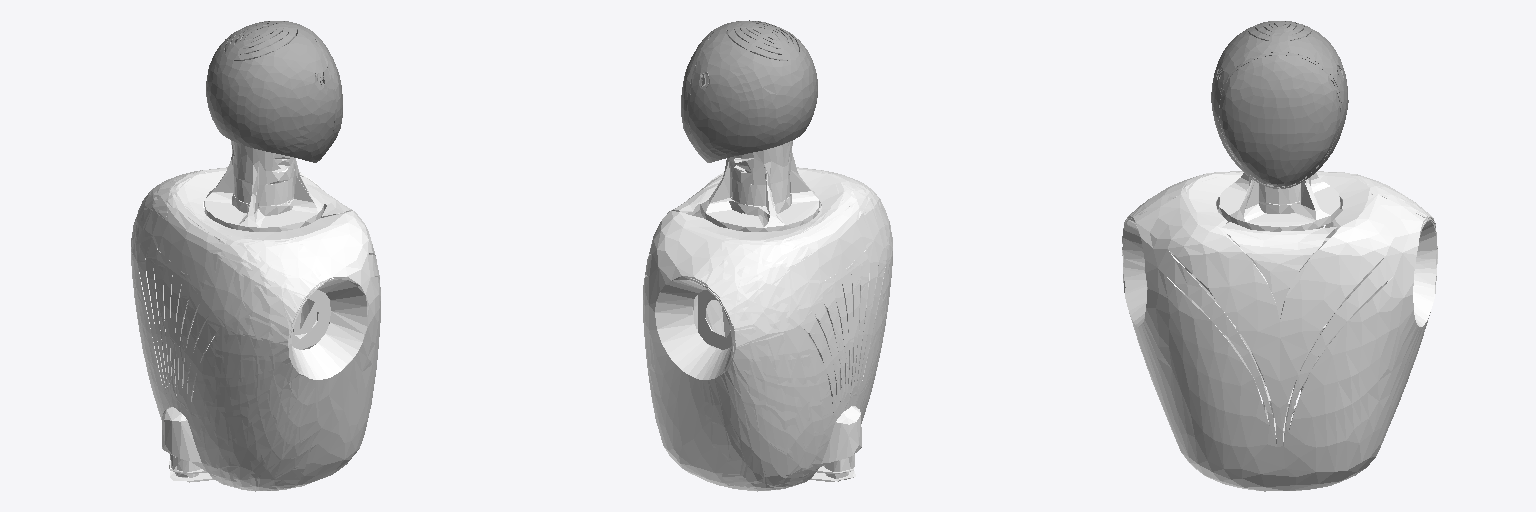
URDF robot description (RH5):
<robot name="RH5">

  <link name="BodyYaw_Link">
    <inertial>
      <origin xyz="-0.015999 0.00018406 0.27483" rpy="0 0 0" />
      <mass value="27.291" />
      <inertia ixx="1.1652" ixy="-5.1088E-05" ixz="-0.027697" iyy="0.98908" iyz="-0.00057966" izz="0.60666" />
    </inertial>
    <visual>
      <origin xyz="0 0 0" rpy="0 0 0" />
      <geometry>
        <mesh filename="../meshes/stl/BodyYaw_Link.STL" />
      </geometry>
      <material name="">
        <color rgba="1 1 1 1" />
      </material>
    </visual>
    <collision>
      <origin xyz="0 0 0" rpy="0 0 0" />
      <geometry>
        <mesh filename="../meshes/stl/BodyYaw_Link.STL" />
      </geometry>
    </collision>
  </link>

  <!--Head-->
  <link name="Head_Act1_Link" />
  <link name="Head_Act2_Link" />
  <link name="Head_Act3_Link" />
  <joint name="Head_Act1" type="revolute">
    <origin xyz="0.00395 0 0.66179" rpy="2.8216E-18 3.4225E-16 1.0489E-14" />
    <parent link="BodyYaw_Link" />
    <child link="Head_Act1_Link" />
    <limit effort="9.8" lower="-0.3490658504" upper="0.2617993878" velocity="8.0553657784"/>
  </joint>
  <joint name="Head_Act2" type="revolute">
    <origin xyz="0.00395 0 0.66179" rpy="2.8216E-18 3.4225E-16 1.0489E-14" />
    <parent link="BodyYaw_Link" />
    <child link="Head_Act2_Link" />
    <limit effort="9.8" lower="-0.3490658504" upper="0.2617993878" velocity="8.0553657784"/>
  </joint>
  <joint name="Head_Act3" type="revolute">
    <origin xyz="0.00395 0 0.66179" rpy="2.8216E-18 3.4225E-16 1.0489E-14" />
    <parent link="BodyYaw_Link" />
    <child link="Head_Act3_Link" />
    <limit effort="9.8" lower="-0.3490658504" upper="0.2617993878" velocity="8.0553657784"/>
  </joint>

<transmission name="Head">
  <type>MultiJointLinearTransmission</type>
  <joint name="Head_Act1">
    <depends_on joint="HeadRoll" multiplier="1.0" offset="0" />
    <depends_on joint="HeadPitch" multiplier="1.0" offset="0" />
  </joint>
  <joint name="Head_Act2">
    <depends_on joint="HeadRoll" multiplier="-1.0" offset="0" />
    <depends_on joint="HeadPitch" multiplier="1.0" offset="0" />
  </joint>
  <joint name="Head_Act3">
    <depends_on joint="HeadYaw" multiplier="1.0" offset="0" />
  </joint>
</transmission>

  <link name="HeadPitch_Link">
    <inertial>
      <origin xyz="0.0029695 3.7352E-08 -4.1086E-09" rpy="0 0 0" />
      <mass value="0.01353" />
      <inertia ixx="1.2693E-06" ixy="2.9253E-12" ixz="-1.323E-13" iyy="2.1697E-06" iyz="-1.983E-12" izz="3.0472E-06" />
    </inertial>
    <visual>
      <origin xyz="0 0 0" rpy="0 0 0" />
      <geometry>
        <mesh filename="../meshes/stl/HeadPitch_Link.STL" />
      </geometry>
      <material name="">
        <color rgba="0.69804 0.69804 0.69804 1" />
      </material>
    </visual>
    <collision>
      <origin xyz="0 0 0" rpy="0 0 0" />
      <geometry>
        <mesh filename="../meshes/stl/HeadPitch_Link.STL" />
      </geometry>
    </collision>
  </link>
  <joint name="HeadPitch" type="revolute">
    <origin xyz="0.00395 0 0.66179" rpy="2.8216E-18 3.4225E-16 1.0489E-14" />
    <parent link="BodyYaw_Link" />
    <child link="HeadPitch_Link" />
    <axis xyz="0 1 0" />
    <limit effort="9.8" lower="-0.3490658504" upper="0.2617993878" velocity="8.0553657784"/>
  </joint>
  <link name="HeadRoll_Link">
    <inertial>
      <origin xyz="-0.0040042 1.6567E-08 0.017195" rpy="0 0 0" />
      <mass value="0.03223" />
      <inertia ixx="1.2379E-05" ixy="7.9876E-12" ixz="-2.2191E-06" iyy="2.1298E-05" iyz="5.8926E-11" izz="1.355E-05" />
    </inertial>
    <visual>
      <origin xyz="0 0 0" rpy="0 0 0" />
      <geometry>
        <mesh filename="../meshes/stl/HeadRoll_Link.STL" />
      </geometry>
      <material name="">
        <color rgba="0.69804 0.69804 0.69804 1" />
      </material>
    </visual>
    <collision>
      <origin xyz="0 0 0" rpy="0 0 0" />
      <geometry>
        <mesh filename="../meshes/stl/HeadRoll_Link.STL" />
      </geometry>
    </collision>
  </link>
  <joint name="HeadRoll" type="revolute">
    <origin xyz="0 0 0" rpy="1.6457E-37 0 0" />
    <parent link="HeadPitch_Link" />
    <child link="HeadRoll_Link" />
    <axis xyz="1 0 0" />
    <limit effort="9.8" lower="-0.436332313" upper="0.436332313" velocity="8.0553657784"/>
  </joint>
  <link name="HeadYaw_Link">
    <inertial>
      <origin xyz="0.029368 -0.00017537 0.06406" rpy="0 0 0" />
      <mass value="1.7003" />
      <inertia ixx="0.01193" ixy="-2.7459E-05" ixz="0.0010678" iyy="0.01151" iyz="-4.681E-05" izz="0.012306" />
    </inertial>
    <visual>
      <origin xyz="0 0 0" rpy="0 0 0" />
      <geometry>
        <mesh filename="../meshes/stl/HeadYaw_Link.STL" />
      </geometry>
      <material name="">
        <color rgba="0.69804 0.69804 0.69804 1" />
      </material>
    </visual>
    <collision>
      <origin xyz="0 0 0" rpy="0 0 0" />
      <geometry>
        <mesh filename="../meshes/stl/HeadYaw_Link.STL" />
      </geometry>
    </collision>
  </link>
  <joint name="HeadYaw" type="revolute">
    <origin xyz="0 0 0" rpy="1.6457E-37 0 0" />
    <parent link="HeadRoll_Link" />
    <child link="HeadYaw_Link" />
    <axis xyz="0 0 1" />
    <limit effort="4.9" lower="-1.5707963268" upper="1.5707963268" velocity="8.0553657784"/>
  </joint>

  <link name="Camera_Left_Link" />
  <joint name="Camera_Left" type="fixed">
    <origin xyz="0.12605 0.0402 0.089608" rpy="0 0 0" />
    <parent link="HeadYaw_Link" />
    <child link="Camera_Left_Link" />
    <axis xyz="0 0 0" />
  </joint>
  <link name="Camera_Right_Link" />
  <joint name="Camera_Right" type="fixed">
    <origin xyz="0.12605 -0.0402 0.089608" rpy="0 0 0" />
    <parent link="HeadYaw_Link" />
    <child link="Camera_Right_Link" />
    <axis xyz="0 0 0" />
  </joint>

</robot>

--- Facts derived from the render (not from the file) ---
3 views of the same robot in one strip: view 1: azimuth 30°, elevation 25°; view 2: azimuth 150°, elevation 25°; view 3: azimuth 270°, elevation 25° (orthographic).
Model RH5 with 9 links and 8 joints (6 revolute, 2 fixed), rooted at BodyYaw_Link, posed all joints at 0.
Visible links, largest first — view 1: BodyYaw_Link, HeadYaw_Link; view 2: BodyYaw_Link, HeadYaw_Link; view 3: BodyYaw_Link, HeadYaw_Link.
Boxes of the visible links, x1=… form: BodyYaw_Link: x1=131, y1=141, x2=380, y2=491; HeadYaw_Link: x1=206, y1=21, x2=342, y2=162; BodyYaw_Link: x1=643, y1=141, x2=892, y2=491; HeadYaw_Link: x1=681, y1=20, x2=817, y2=162; BodyYaw_Link: x1=1122, y1=171, x2=1437, y2=491; HeadYaw_Link: x1=1211, y1=21, x2=1348, y2=188.
Size in the robot's own frame: 0.36 by 0.515 by 0.811 metres.
4 mesh visuals loaded from 4 distinct referenced files (4 binary STL).